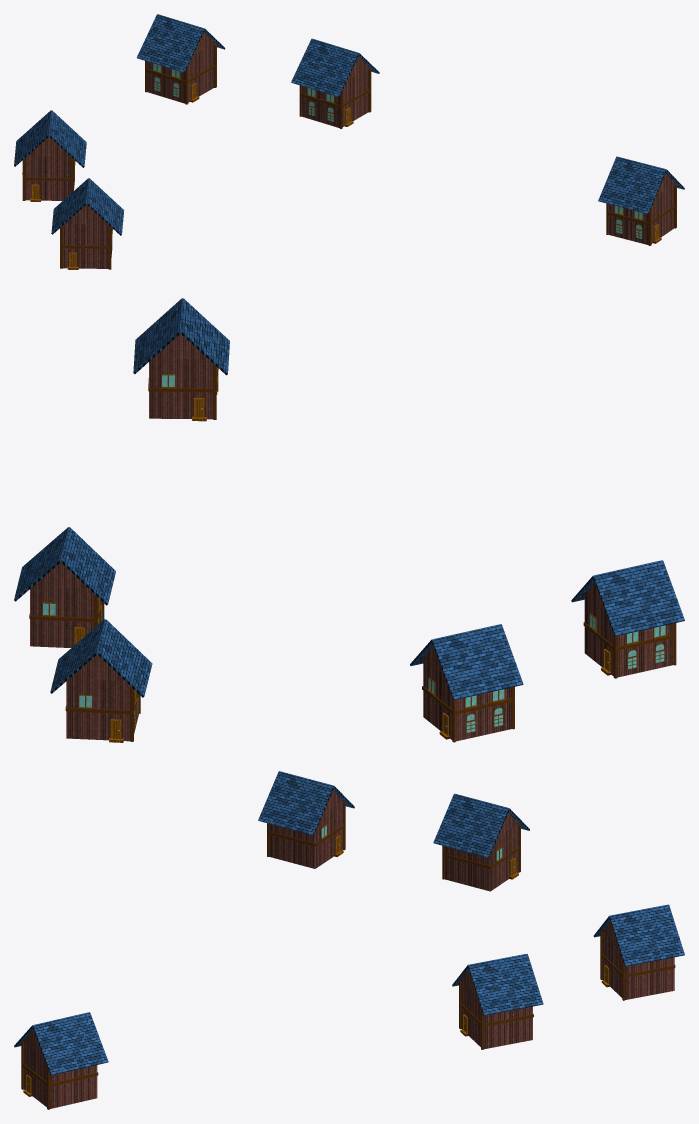
File: CasasAzules.fbx
3 renders of one model, top to bottom at view 1: azimuth 30°, elevation 25°; view 2: azimuth 150°, elevation 25°; view 3: azimuth 270°, elevation 25°, orthographic. The views are drawn at different scales.
Visible parts, largest first — view 1: Azul; view 2: Azul; view 3: Azul.
Part boxes in pixels (x1,y1,x2,y2): Azul: (14,14,684,269); Azul: (14,298,684,742); Azul: (14,771,684,1109).
Bounding box in the file's own units: 4859 × 603 × 4874.
